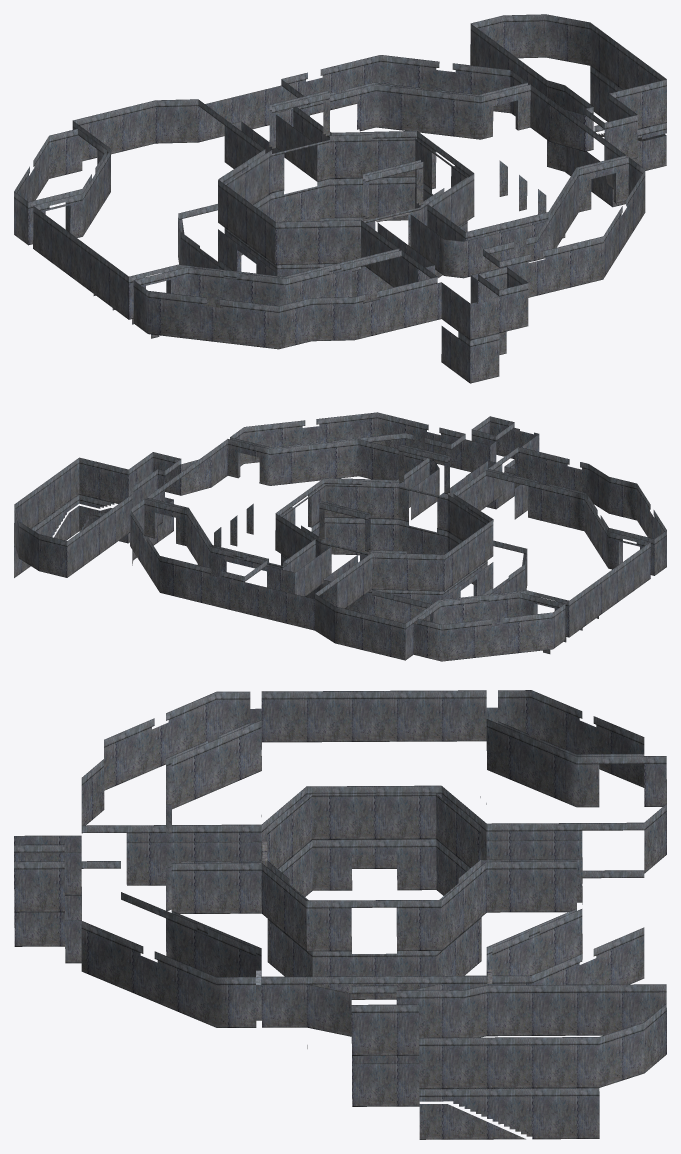
3 views of the same model, one above another, from view 1: azimuth 30°, elevation 25°; view 2: azimuth 150°, elevation 25°; view 3: azimuth 270°, elevation 25° (orthographic). The views are drawn at different scales.
Visible parts, largest first — view 1: Object_2; view 2: Object_2; view 3: Object_2.
Boxes of the visible parts, x1,y1,x2,y2 form: Object_2: (14, 14, 666, 383); Object_2: (14, 412, 666, 661); Object_2: (14, 690, 666, 1139).
Bounding box in the file's own units: 40.98 × 8.55 × 32.58.
Materials: 1 (1 with a texture image).
